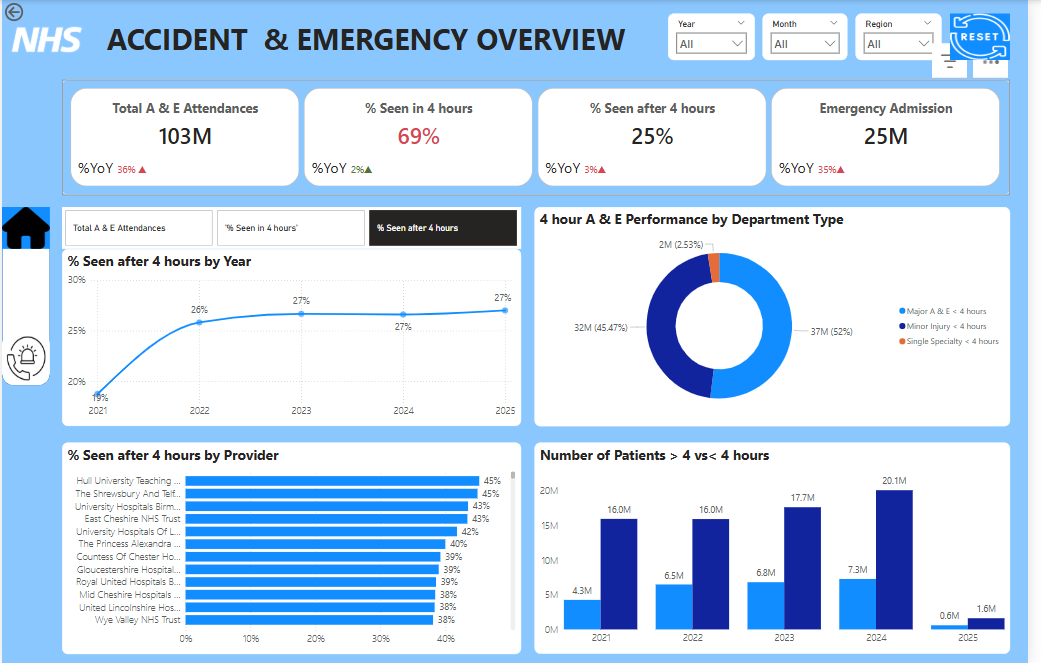

The dashboard page shown, as its layout file describes it:
{"tool":"powerbi","page":{"name":"Accident","canvas":[1700,1100],"ordinal":0},"visuals":[{"type":"slicer","fields":{"Values":["DateTable.Year"]},"box":[1103.2,22.9,143.8,77.2],"z":0},{"type":"slicer","fields":{"Values":["NHSdata.Region"]},"box":[1415.1,22.9,142.3,77.2],"z":1000},{"type":"slicer","fields":{"Values":["DateTable.Month"]},"box":[1260.7,22.9,140.8,77.2],"z":2000},{"type":"actionButton","box":[0,0,100,40],"z":3000},{"type":"cardVisual","fields":{"Data":["Dax Measures.Total A & E Attendances","Dax Measures.'% Seen in 4 hours'","Dax Measures.% Seen after 4 hours","Emergency  Measures.'Emergency Admissions'"]},"box":[99.4,131.7,1570.5,191.3],"z":4000},{"type":"advancedSlicerVisual","fields":{"Values":["Parameter.Parameter"]},"box":[99.4,342.9,760.4,69.6],"z":5000},{"type":"lineChart","fields":{"Y":["Dax Measures.% Seen after 4 hours"],"Category":["DateTable.Year"]},"box":[99.4,412.5,760.4,293.2],"z":6000},{"type":"clusteredBarChart","fields":{"Y":["Dax Measures.% Seen after 4 hours"],"Category":["NHSdata.Provider"]},"box":[99.4,733.1,760.4,350.4],"z":7000},{"type":"donutChart","title":"4 hour A & E Performance by Department Type","fields":{"Y":["Dax Measures.'Major A & E < 4 hours'","Dax Measures.Minor Injury < 4 hours","Dax Measures.Single Specialty < 4 hours"]},"box":[881.9,343.6,787.8,363.3],"z":8000},{"type":"clusteredColumnChart","title":"Number of Patients  > 4 vs< 4 hours ","fields":{"Category":["DateTable.Year"],"Y":["Dax Measures.Total A & E Attendances > 4 hours","Dax Measures.Total A & E Attendances < 4 hours"]},"box":[882,733,788,350],"z":9000},{"type":"actionButton","box":[1570.5,22.4,99.4,77],"z":10000},{"type":"shape","box":[0,342.9,79.5,295.7],"z":11000},{"type":"actionButton","box":[0,342.9,79.5,69.6],"z":12000},{"type":"actionButton","box":[0,549.2,79.5,89.5],"z":13000},{"type":"image","box":[7.9,0,134.5,131.9],"z":14000},{"type":"textbox","box":[142.4,23.7,923,76.5],"z":15000}]}

Visuals, with their boxes in screenshot pixels (x1, y1, x2, y2), scaled from the page's 1700x1100 canvas onto the 1041x663 screenshot:
slicer - DateTable.Year: l=676, t=14, r=764, b=60
slicer - NHSdata.Region: l=867, t=14, r=954, b=60
slicer - DateTable.Month: l=772, t=14, r=858, b=60
actionButton: l=0, t=0, r=61, b=24
cardVisual - Dax Measures.Total A & E Attendances x Dax Measures.'% Seen in 4 hours': l=61, t=79, r=1023, b=195
advancedSlicerVisual - Parameter.Parameter: l=61, t=207, r=527, b=249
lineChart - Dax Measures.% Seen after 4 hours x DateTable.Year: l=61, t=249, r=527, b=425
clusteredBarChart - Dax Measures.% Seen after 4 hours x NHSdata.Provider: l=61, t=442, r=527, b=653
"4 hour A & E Performance by Department Type" donutChart: l=540, t=207, r=1022, b=426
"Number of Patients  > 4 vs< 4 hours " clusteredColumnChart: l=540, t=442, r=1023, b=653
actionButton: l=962, t=14, r=1023, b=60
shape: l=0, t=207, r=49, b=385
actionButton: l=0, t=207, r=49, b=249
actionButton: l=0, t=331, r=49, b=385
image: l=5, t=0, r=87, b=79
textbox: l=87, t=14, r=652, b=60
